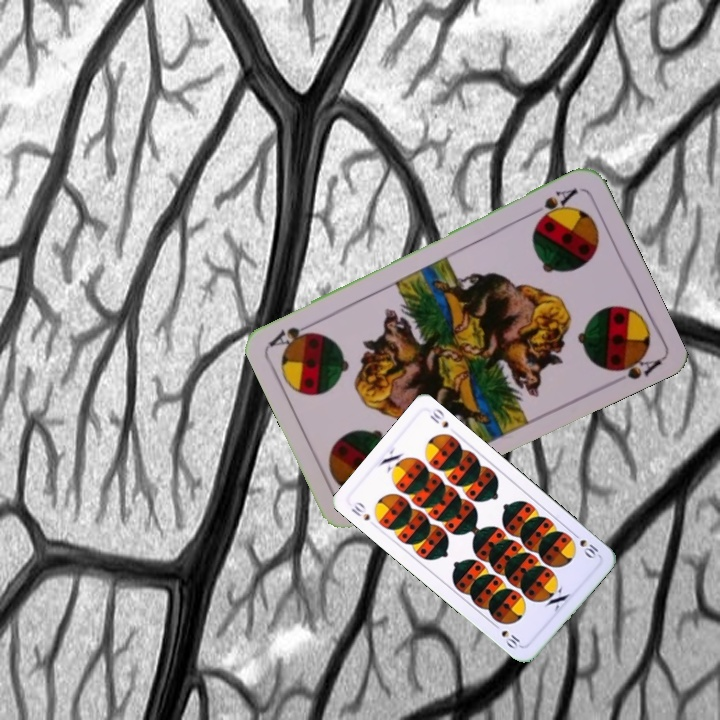S10: (568, 528, 602, 562), (347, 498, 373, 523)
SA: (527, 184, 581, 225)
